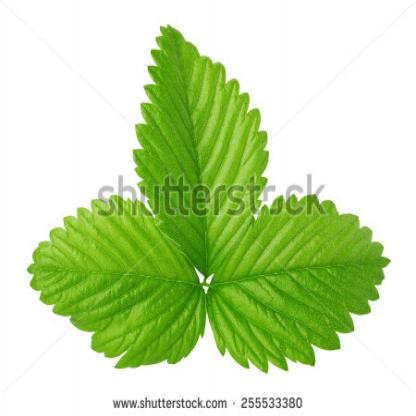strawberry leaf: (204, 180, 397, 374), (128, 21, 272, 268), (22, 190, 211, 376)
